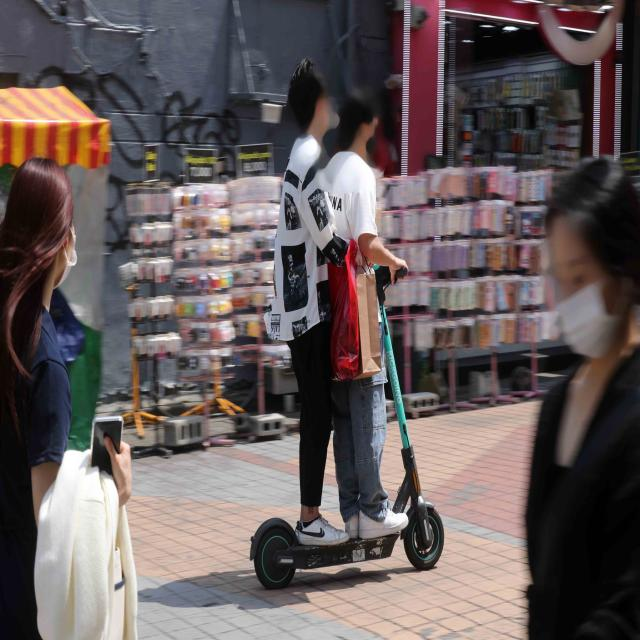non-helmet: (231, 51, 451, 591)
